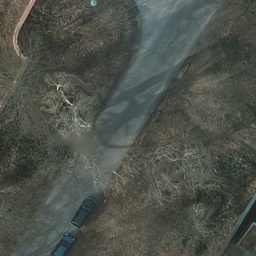car: (71, 195, 98, 226)
